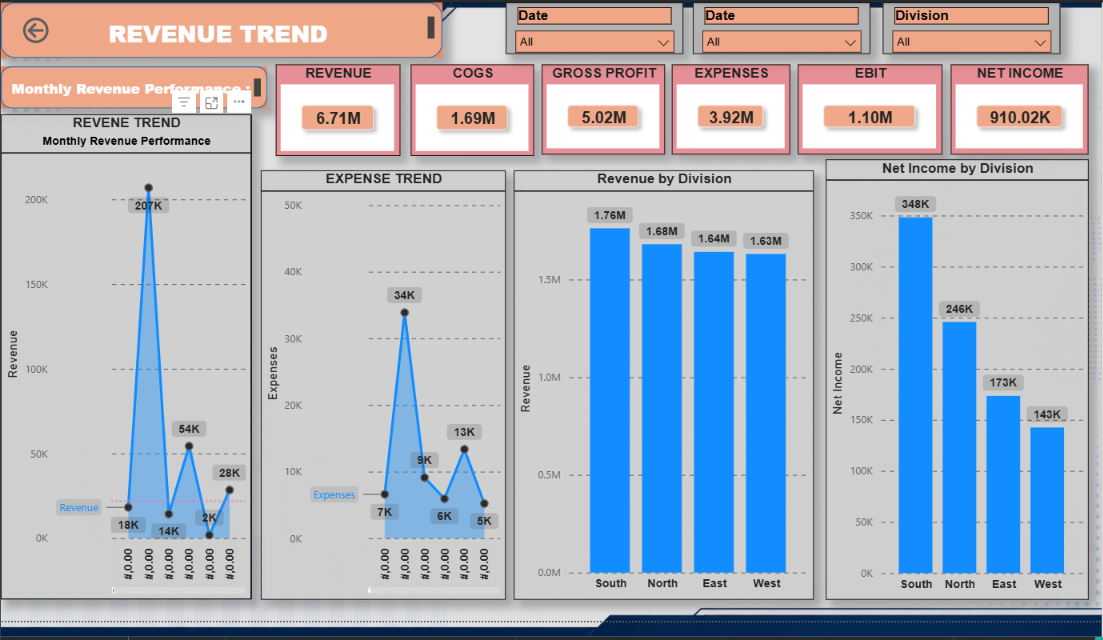

Layout of this report page (visuals, bound fields, positions):
{"tool":"powerbi","page":{"name":"Executive Dashboard ","canvas":[1280,720],"ordinal":1},"visuals":[{"type":"group","id":"g1","title":"Group 1","box":[0,0,513.3,64.4],"z":0},{"type":"shape","box":[0,0,513.3,64.4],"z":0,"group":"g2"},{"type":"shape","box":[0,75,309.8,48.9],"z":0,"group":"g3"},{"type":"group","id":"g2","title":"Group 2","box":[0,0,513.3,64.4],"z":3,"group":"g1"},{"type":"group","id":"g3","title":"Group 2","box":[0,75,309.8,48.9],"z":3,"group":"g4"},{"type":"textbox","box":[3.8,11.6,505.7,41.2],"z":1000,"group":"g2"},{"type":"group","id":"g4","title":"Group 1","box":[0,75,309.8,48.9],"z":1000},{"type":"textbox","box":[2.3,83.8,305.2,31.2],"z":1000,"group":"g3"},{"type":"cardVisual","title":"REVENUE","fields":{"Data":["Measure Table.Revenue"]},"box":[320,72.2,144.4,106.7],"z":2000},{"type":"cardVisual","title":"COGS","fields":{"Data":["Measure Table.COGS"]},"box":[476.7,72.2,143.3,106.7],"z":3000},{"type":"cardVisual","title":"GROSS PROFIT","fields":{"Data":["Measure Table.Gross Profit"]},"box":[628.9,72.2,143.3,104.4],"z":4000},{"type":"cardVisual","title":"EXPENSES","fields":{"Data":["Measure Table.Expenses"]},"box":[780,72.2,137.8,104.4],"z":5000},{"type":"cardVisual","title":"EBIT","fields":{"Data":["Measure Table.EBIT"]},"box":[926.7,72.2,167.8,104.4],"z":6000},{"type":"cardVisual","title":"NET INCOME","fields":{"Data":["Measure Table.Net Income"]},"box":[1104.4,72.2,160,104.4],"z":7000},{"type":"lineChart","title":"REVENE  TREND","fields":{"Category":["Fact_GL.Date.Variation.Date Hierarchy.Year"],"Y":["Measure Table.Revenue"]},"box":[0,130.4,291.3,564.1],"z":8000},{"type":"lineChart","title":"EXPENSE  TREND","fields":{"Category":["Fact_GL.Date.Variation.Date Hierarchy.Year"],"Y":["Measure Table.Expenses"]},"box":[302.2,195.7,284.8,498.9],"z":9000},{"type":"columnChart","fields":{"Category":["Fact_GL.Division"],"Y":["Measure Table.Revenue"]},"box":[596.7,195.6,348.9,498.9],"z":10000},{"type":"columnChart","fields":{"Category":["Fact_GL.Division"],"Y":["Measure Table.Net Income"]},"box":[958.9,182.2,305.6,512.2],"z":11000},{"type":"slicer","fields":{"Values":["Fact_GL.Date.Variation.Date Hierarchy.Year"]},"box":[586.7,0,206.7,60],"z":12000},{"type":"slicer","fields":{"Values":["Fact_GL.Date.Variation.Date Hierarchy.Month"]},"box":[804.4,0,206.7,60],"z":13000},{"type":"slicer","fields":{"Values":["Fact_GL.Division"]},"box":[1025.6,0,206.7,60],"z":14000},{"type":"actionButton","box":[20.9,12.8,41.9,39.5],"z":14001,"group":"g1"}]}

Visuals, with their boxes on the page's 1280x720 design canvas (x1, y1, x2, y2). These are canvas units, not pixel positions in the 1103x640 screenshot, which may show the page scaled, cropped or inside an application window:
"Group 1" group: [left=0, top=0, right=513, bottom=64]
shape: [left=0, top=0, right=513, bottom=64]
shape: [left=0, top=75, right=310, bottom=124]
"Group 2" group: [left=0, top=0, right=513, bottom=64]
"Group 2" group: [left=0, top=75, right=310, bottom=124]
textbox: [left=4, top=12, right=510, bottom=53]
"Group 1" group: [left=0, top=75, right=310, bottom=124]
textbox: [left=2, top=84, right=308, bottom=115]
"REVENUE" cardVisual: [left=320, top=72, right=464, bottom=179]
"COGS" cardVisual: [left=477, top=72, right=620, bottom=179]
"GROSS PROFIT" cardVisual: [left=629, top=72, right=772, bottom=177]
"EXPENSES" cardVisual: [left=780, top=72, right=918, bottom=177]
"EBIT" cardVisual: [left=927, top=72, right=1094, bottom=177]
"NET INCOME" cardVisual: [left=1104, top=72, right=1264, bottom=177]
"REVENE  TREND" lineChart: [left=0, top=130, right=291, bottom=694]
"EXPENSE  TREND" lineChart: [left=302, top=196, right=587, bottom=695]
columnChart - Fact_GL.Division x Measure Table.Revenue: [left=597, top=196, right=946, bottom=694]
columnChart - Fact_GL.Division x Measure Table.Net Income: [left=959, top=182, right=1264, bottom=694]
slicer - Fact_GL.Date.Variation.Date Hierarchy.Year: [left=587, top=0, right=793, bottom=60]
slicer - Fact_GL.Date.Variation.Date Hierarchy.Month: [left=804, top=0, right=1011, bottom=60]
slicer - Fact_GL.Division: [left=1026, top=0, right=1232, bottom=60]
actionButton: [left=21, top=13, right=63, bottom=52]
